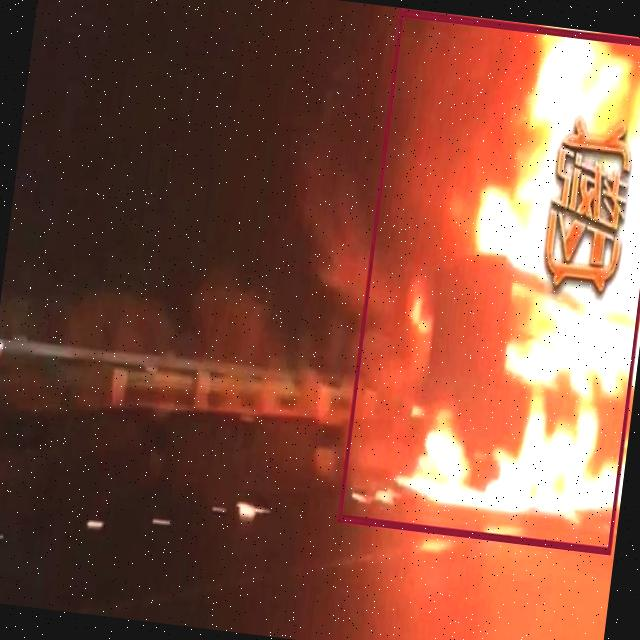fire: (337, 9, 640, 554)
